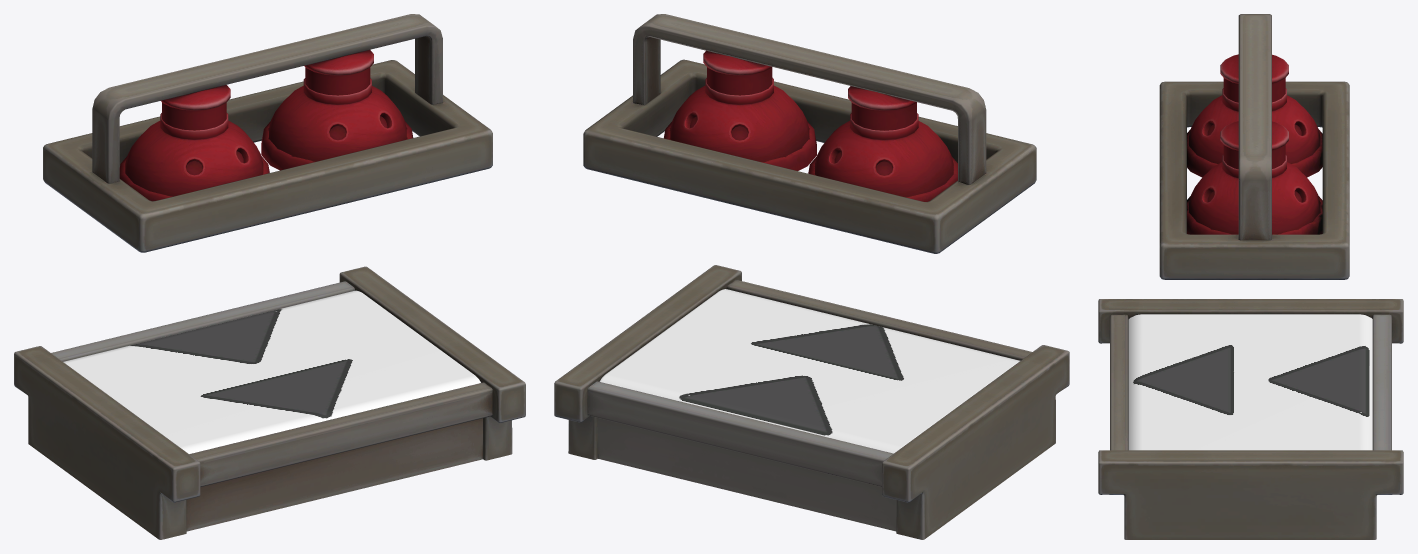
Rendered from m_dlc08_servicehatch_01.fbx.
The picture shows the model from 3 angles, left to right: view 1: azimuth 30°, elevation 25°; view 2: azimuth 150°, elevation 25°; view 3: azimuth 270°, elevation 25°; orthographic projection. The views are drawn at different scales.
Parts seen in each view (by area): view 1: m_dlc08_servicehatch_01_1, m_dlc08_servicehatch_01_0; view 2: m_dlc08_servicehatch_01_1, m_dlc08_servicehatch_01_0; view 3: m_dlc08_servicehatch_01_1, m_dlc08_servicehatch_01_0.
Boxes of the visible parts, x1=… form: m_dlc08_servicehatch_01_1: x1=14, y1=14, x2=525, y2=539; m_dlc08_servicehatch_01_0: x1=63, y1=290, x2=480, y2=453; m_dlc08_servicehatch_01_1: x1=554, y1=14, x2=1069, y2=539; m_dlc08_servicehatch_01_0: x1=599, y1=289, x2=1020, y2=453; m_dlc08_servicehatch_01_1: x1=1098, y1=14, x2=1403, y2=539; m_dlc08_servicehatch_01_0: x1=1128, y1=314, x2=1372, y2=450.
Size of the model in its own units: 2.4 by 2.53 by 1.88.
